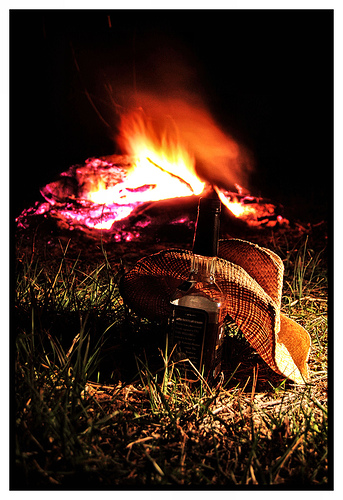fire: (69, 88, 277, 230)
